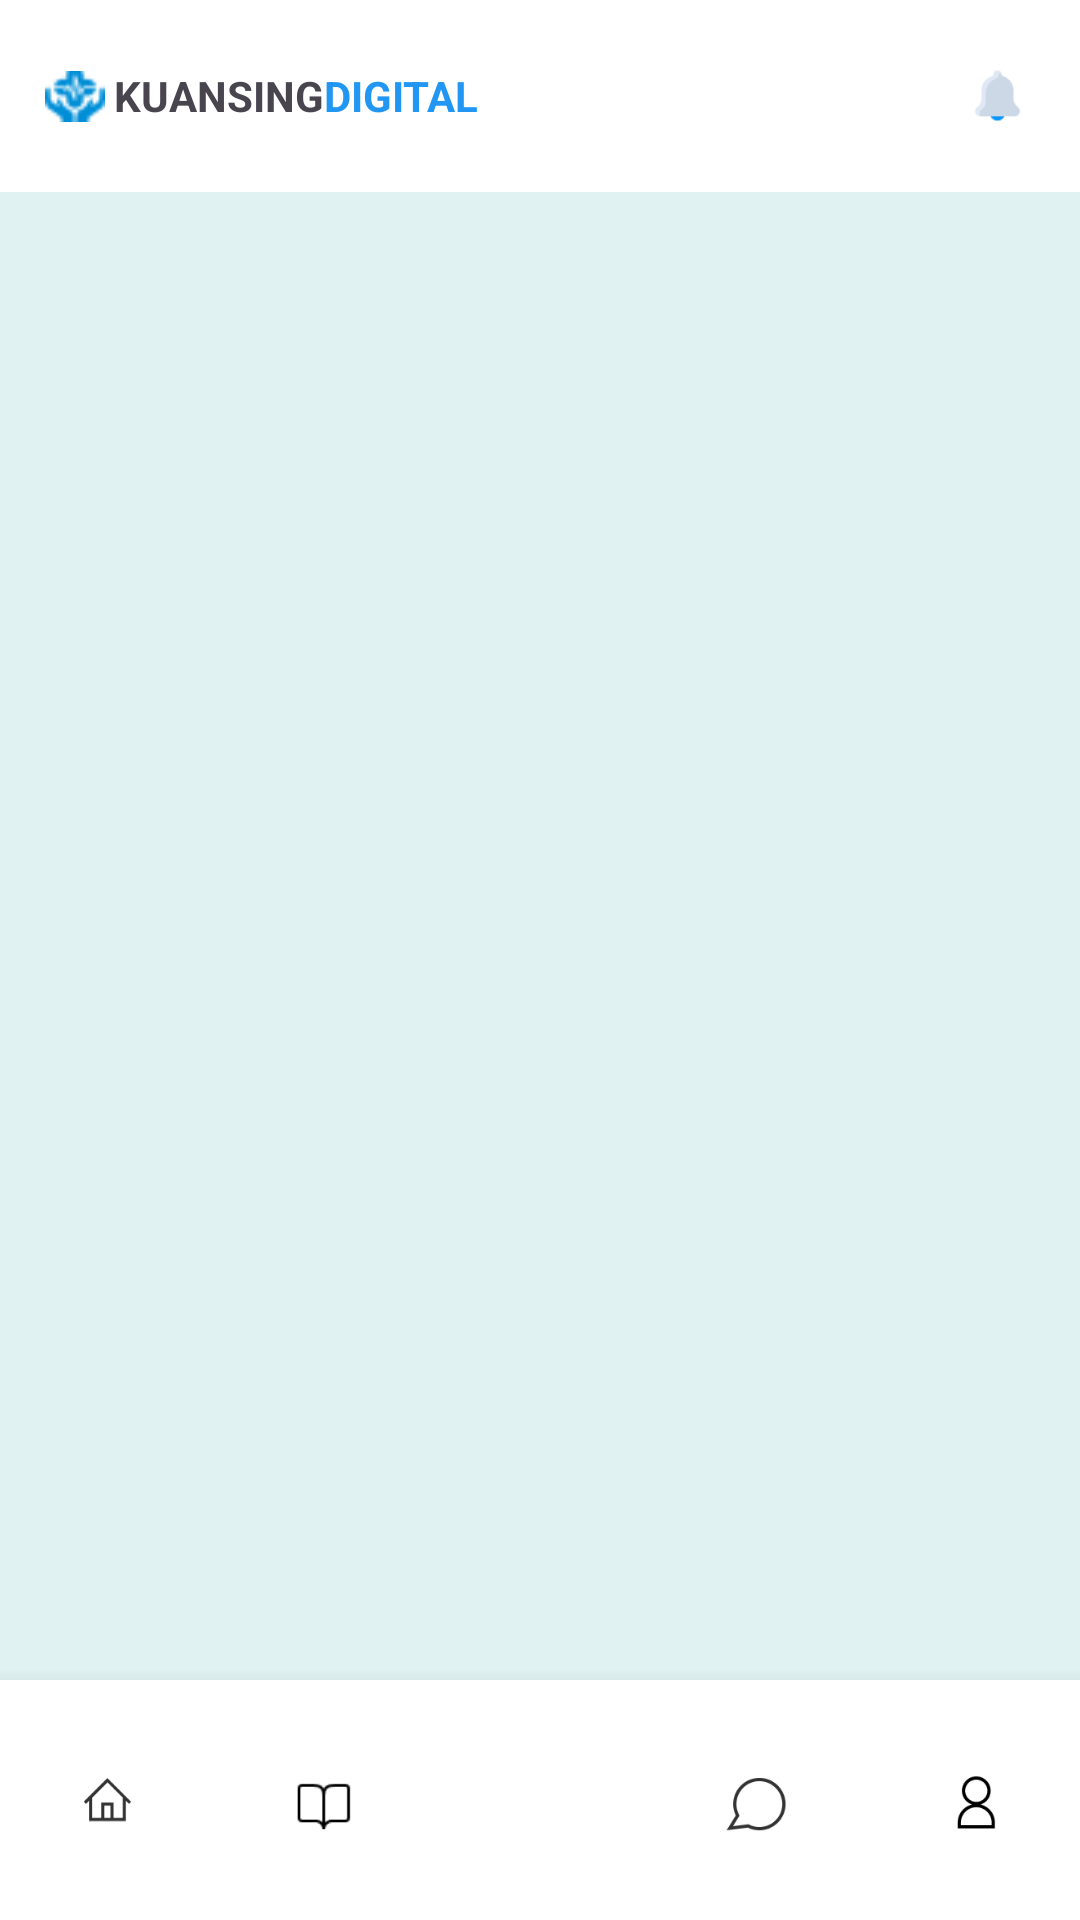

Screen size 1080w x 1920h. Icon name, then its box in pixels as BBox(x1, y1, x2, y2):
buku: BBox(297, 1783, 351, 1830)
chat: BBox(726, 1778, 786, 1831)
home: BBox(84, 1778, 131, 1822)
notif: BBox(976, 71, 1020, 121)
profile: BBox(957, 1776, 995, 1829)
